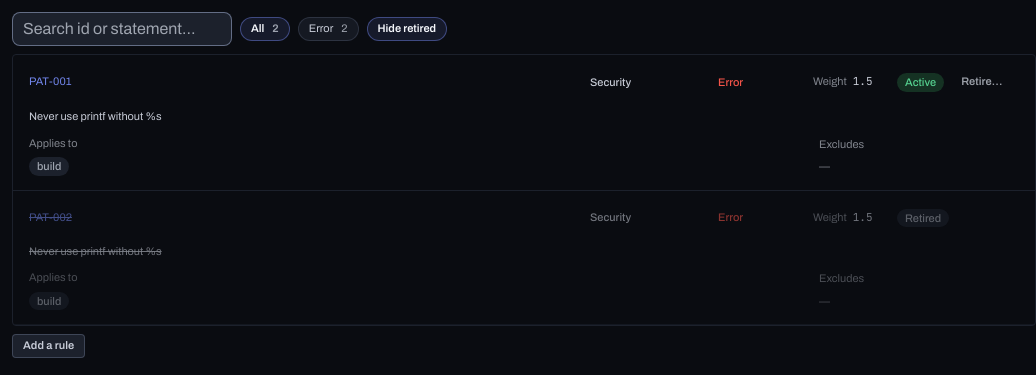
it: SteeringGrid — retired rows + the include_retired facet › the include_retired toggle hides and re-shows retired rows
Check: the number of rows with test id "steering-grid-row" is 2, box [13,55,1035,191]; [13,191,1035,325]
Click the button with test id "steering-filter-retired" at (407, 29), box [366,17,447,41]
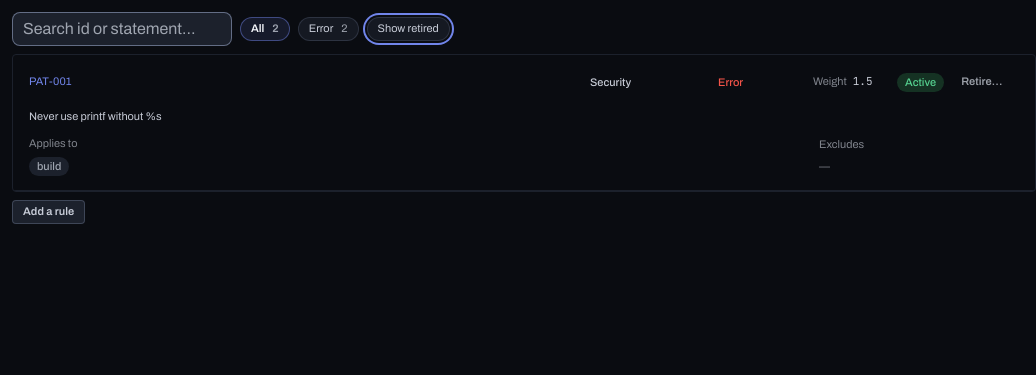
Check: the number of rows with test id "steering-grid-row" is 1, box [13,55,1035,191]
Click the button with test id "steering-filter-retired" at (408, 29), box [366,17,450,41]
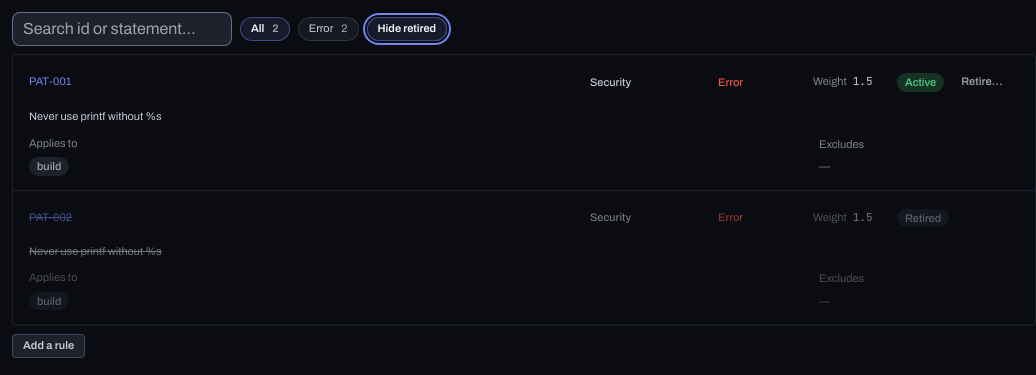
Check: the number of rows with test id "steering-grid-row" is 2, box [13,55,1035,191]; [13,191,1035,325]
